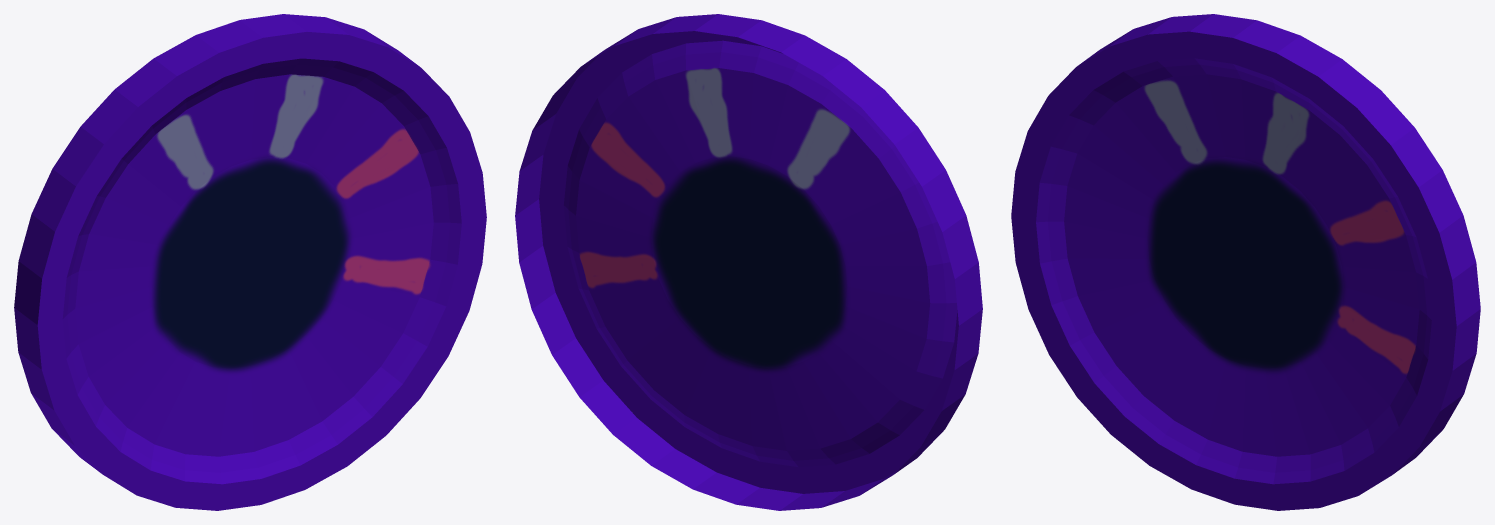
The model's file is boomBass.fbx.
3 views of the same model, side by side, from view 1: azimuth 30°, elevation 25°; view 2: azimuth 150°, elevation 25°; view 3: azimuth 330°, elevation 25° (orthographic).
Parts seen in each view (by area): view 1: Bass.002; view 2: Bass.002; view 3: Bass.002.
Boxes of the visible parts, <box> form: Bass.002: <box>14,14,486,510</box>; Bass.002: <box>515,14,982,510</box>; Bass.002: <box>1011,14,1480,510</box>.
Bounding box in the file's own units: 107 × 107 × 10.82.
1 material, 1 textured.
